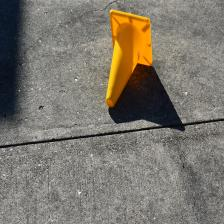cone: (106, 9, 153, 108)
